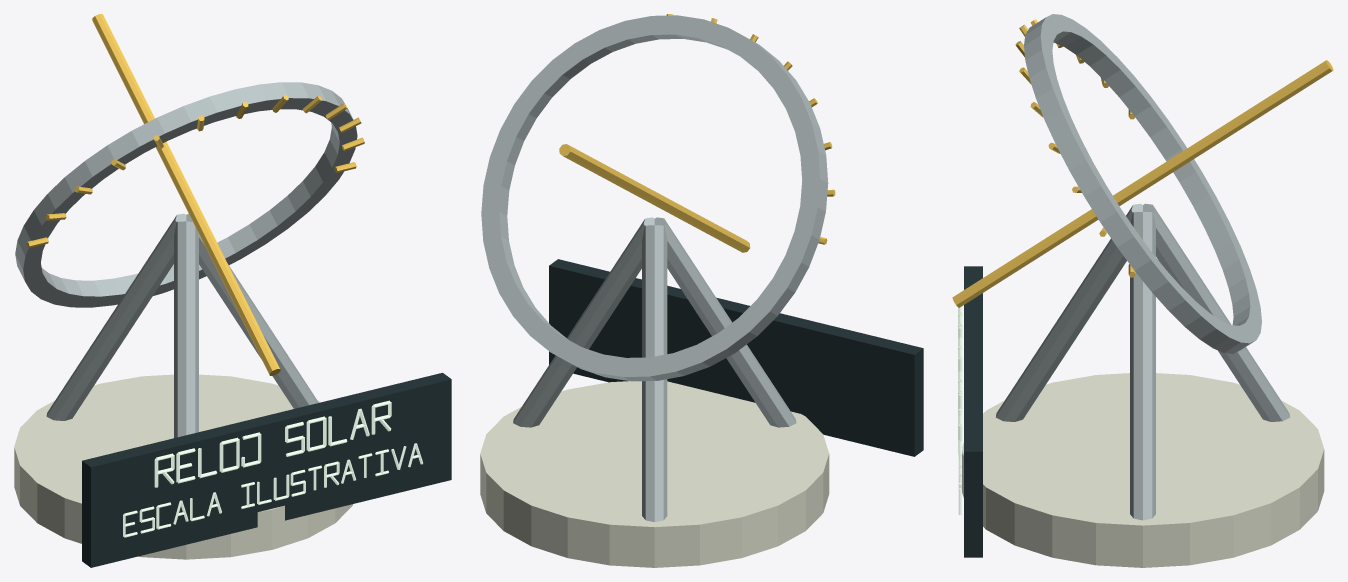
Rendered from SHARED-001.glb.
3 views of the same model, side by side, from view 1: azimuth 30°, elevation 25°; view 2: azimuth 150°, elevation 25°; view 3: azimuth 270°, elevation 25° (orthographic). The views are drawn at different scales.
Visible parts, largest first — view 1: SHARED-001; view 2: SHARED-001; view 3: SHARED-001.
Boxes of the visible parts, left/top/right/bottom form: SHARED-001: left=14, top=14, right=451, bottom=567; SHARED-001: left=480, top=14, right=923, bottom=567; SHARED-001: left=952, top=14, right=1333, bottom=567.
Size of the model in its own units: 1.5 by 1.72 by 1.3.
